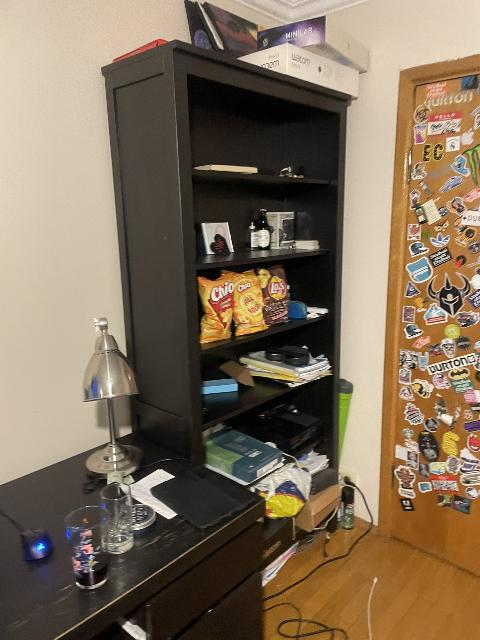Chio Cascaval 125g: (197, 273, 235, 341)
Chio Hula Hoops Cheese 70g: (230, 268, 269, 335)
Lays Beef Grilled Ribs 125g: (261, 264, 291, 326)
